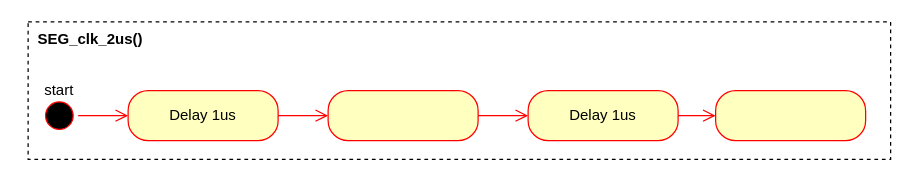
The diagram is 913 pixels wide and 181 high, and some of its shapes have lost their labels. Each missing label, with the centre of its shape:
Set CLK HIGH: pixel 402 115
Set CLK LOW: pixel 790 115
